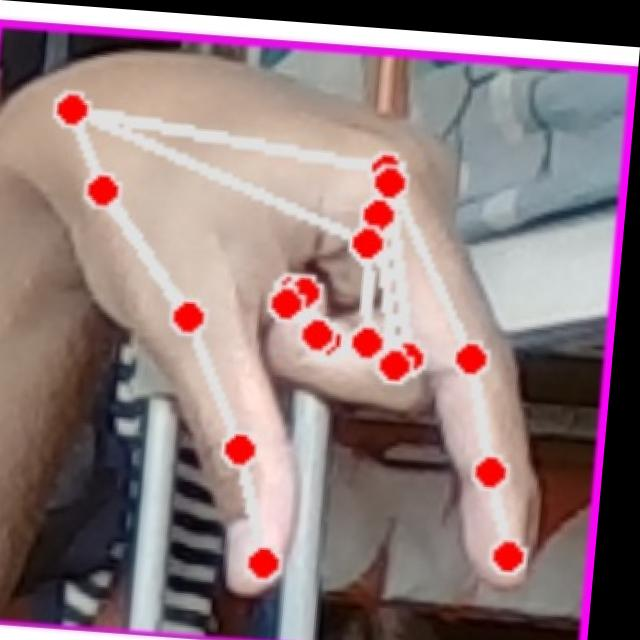Q: (1, 34, 576, 615)
